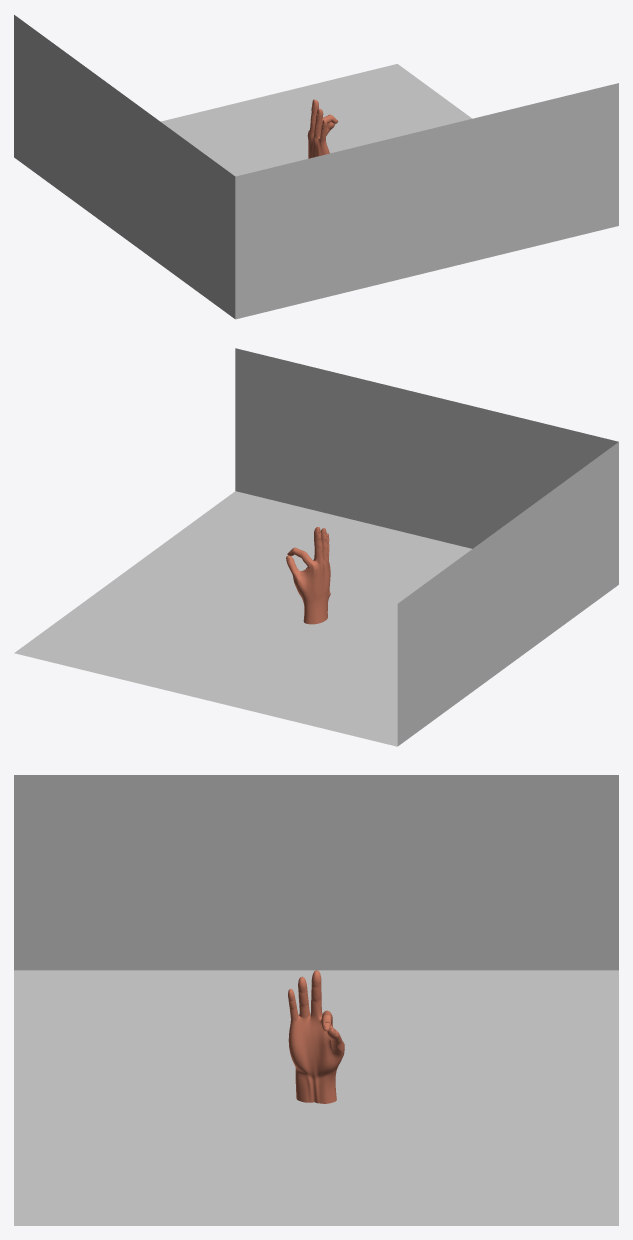
3 renders of one model, top to bottom at view 1: azimuth 30°, elevation 25°; view 2: azimuth 150°, elevation 25°; view 3: azimuth 270°, elevation 25°, orthographic. The views are drawn at different scales.
Visible parts, largest first — view 1: Plane_Plane.006, Plane.004; view 2: Plane_Plane.006, Plane.004; view 3: Plane_Plane.006, Plane.004.
Part boxes in pixels (<box>): Plane_Plane.006: <box>14,15,618,319</box>; Plane.004: <box>307,99,338,158</box>; Plane_Plane.006: <box>14,348,618,746</box>; Plane.004: <box>286,527,330,624</box>; Plane_Plane.006: <box>14,775,618,1225</box>; Plane.004: <box>288,970,344,1103</box>.
Bounding box in the file's own units: 18.5 × 7.45 × 18.5.
